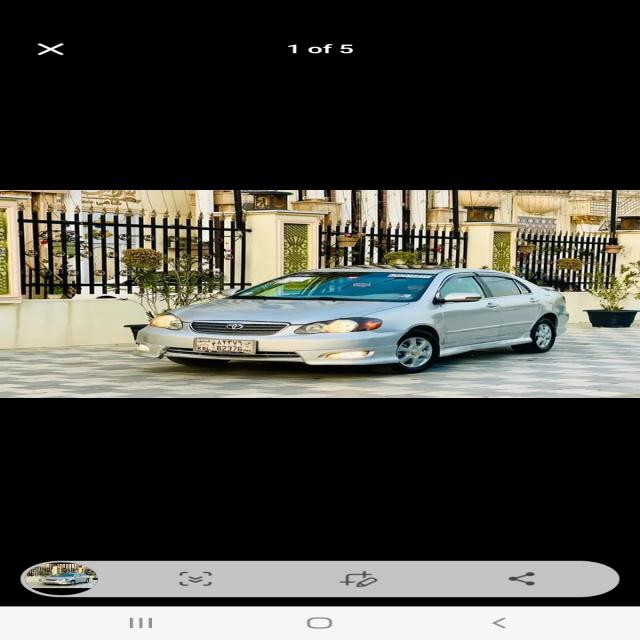Plate: (193, 337, 255, 355)
